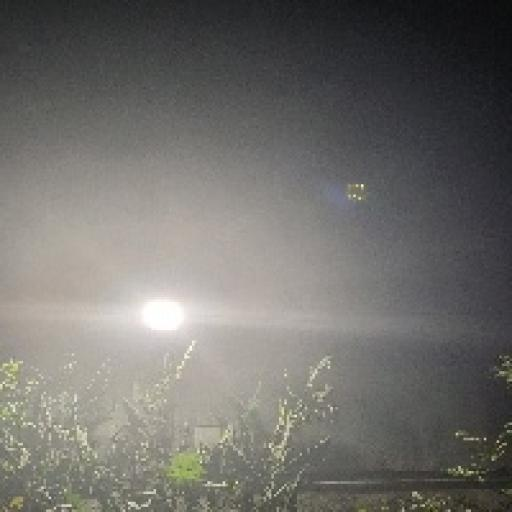Working: (130, 292, 198, 341)
